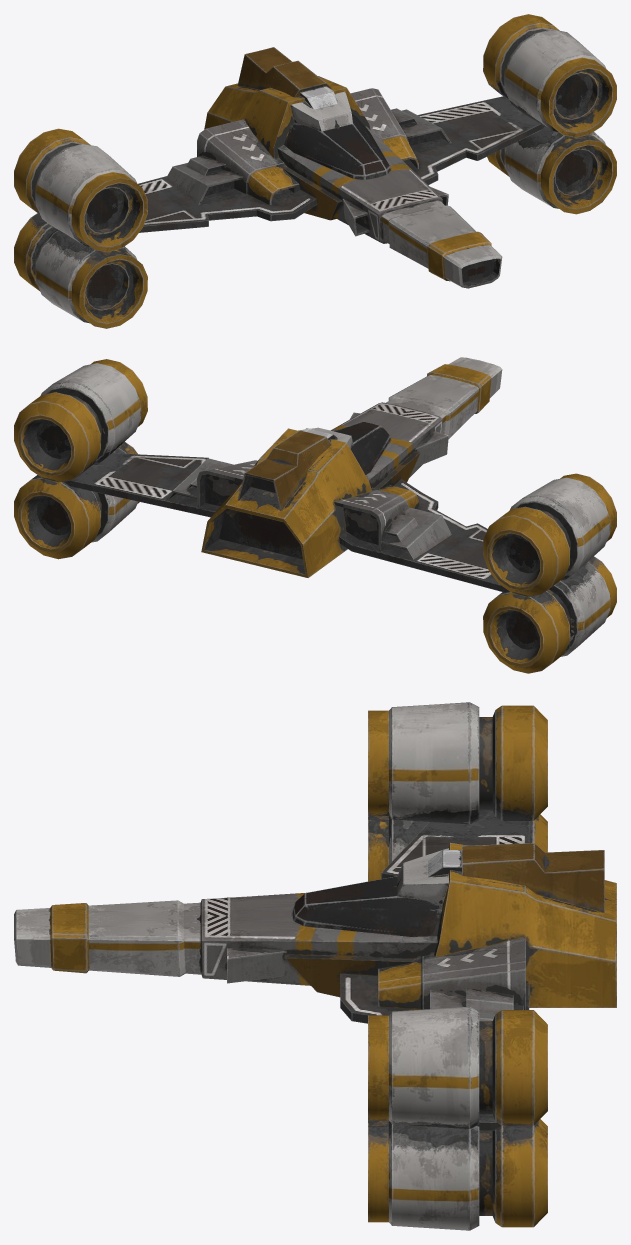
The model's file is Spitfire.gltf.
3 views of the same model, one above another, from view 1: azimuth 30°, elevation 25°; view 2: azimuth 150°, elevation 25°; view 3: azimuth 270°, elevation 25° (orthographic). The views are drawn at different scales.
Parts seen in each view (by area): view 1: Spitfire; view 2: Spitfire; view 3: Spitfire.
Boxes of the visible parts, <box> form: Spitfire: <box>14,14,616,328</box>; Spitfire: <box>14,357,616,673</box>; Spitfire: <box>14,702,616,1230</box>.
Bounding box in the file's own units: 10.52 × 3.06 × 7.53.
1 material, 1 textured.
